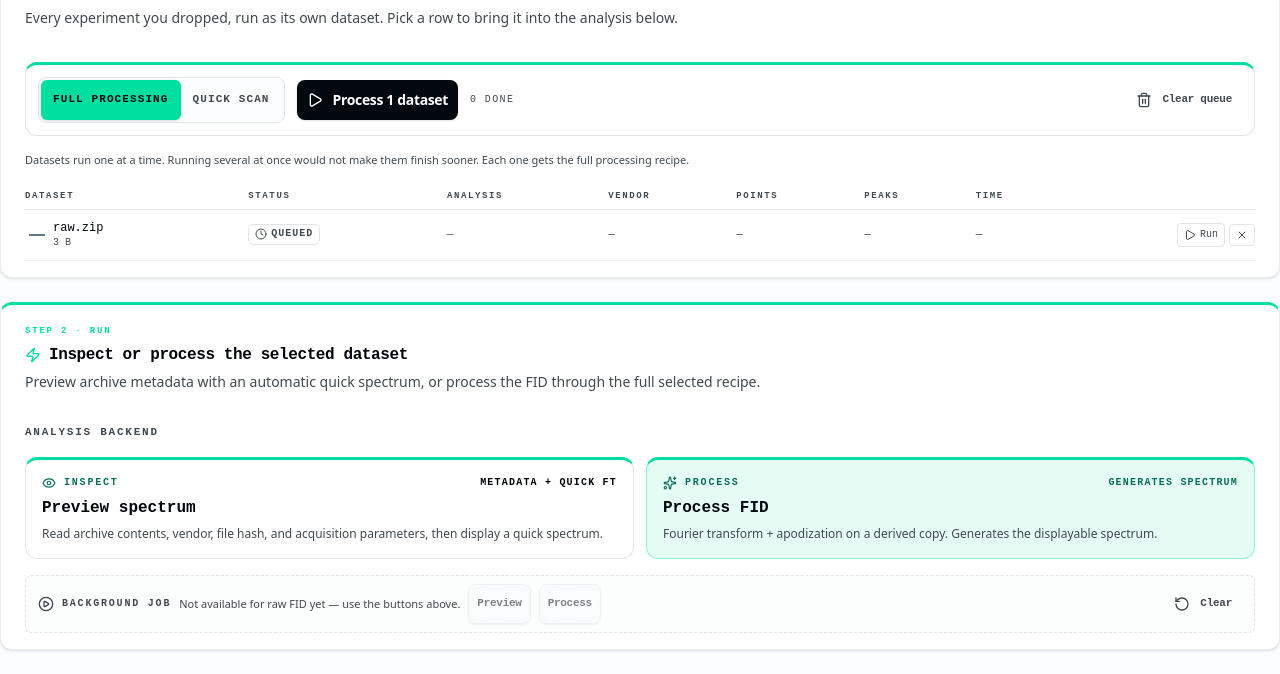
Test case: SpectraCheck preview rendering › raw FID preview uses inline spectrum data without a second processing request
Earlier steps of the test are not shown.
(page scrolled)
Click the button "Preview spectrum" at (91, 482), box [25,457,634,559]
(page scrolled)
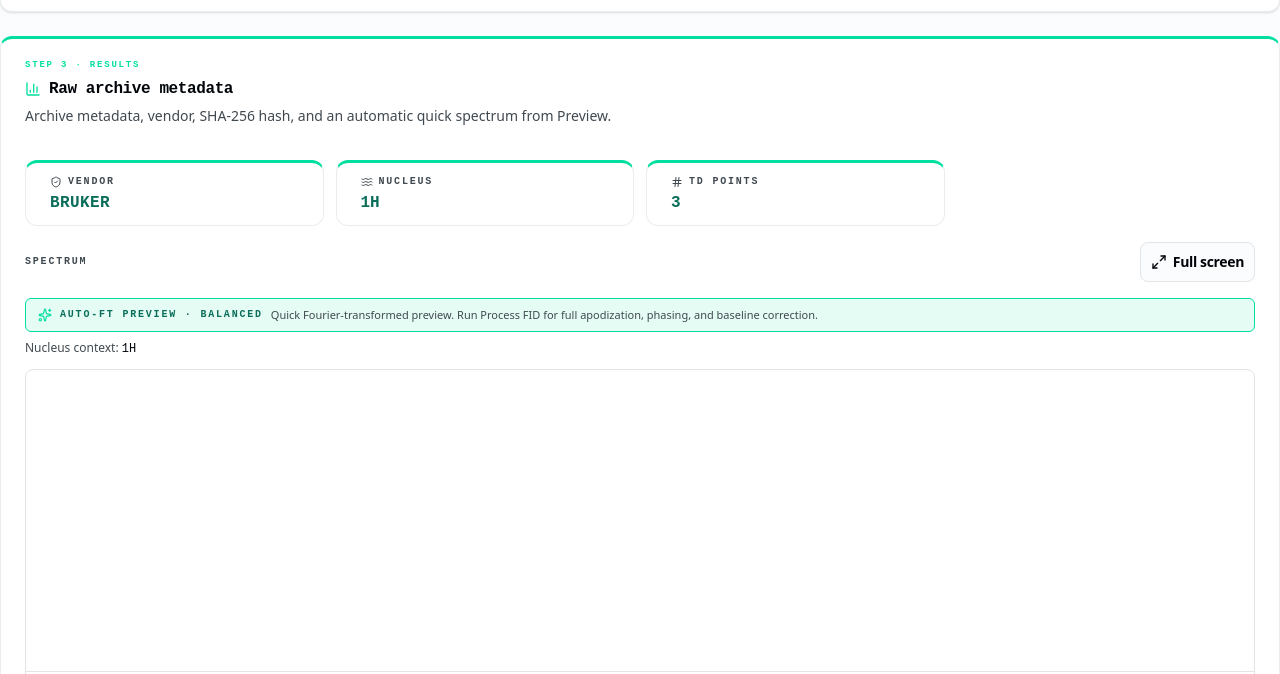
Expected: the text "Auto-FT preview · balanced" is shown, [60,308,263,322]
